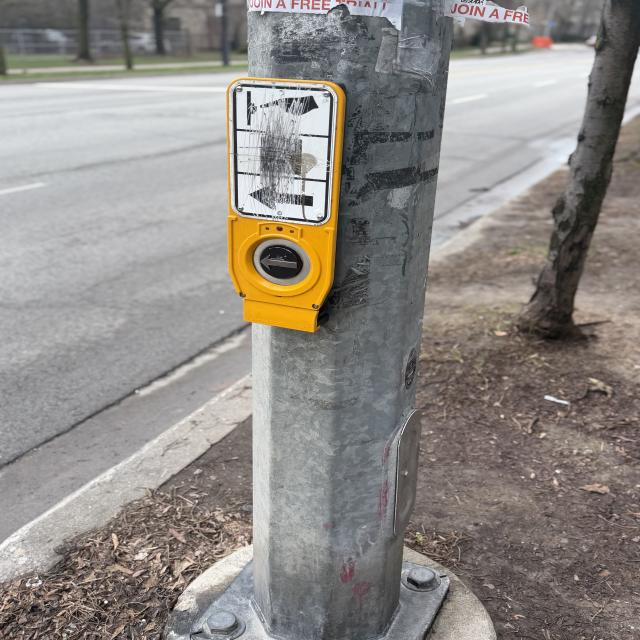Electrical Pole: (196, 25, 462, 640)
